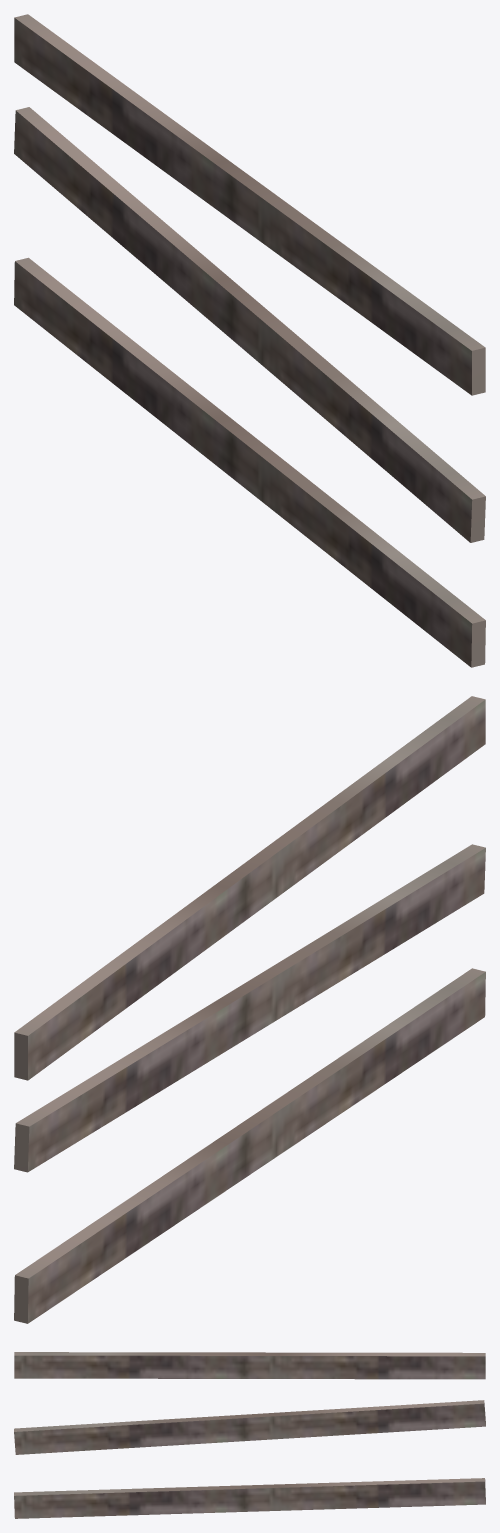
The model's file is board.glb.
3 views of the same model, one above another, from view 1: azimuth 30°, elevation 25°; view 2: azimuth 150°, elevation 25°; view 3: azimuth 270°, elevation 25° (orthographic). The views are drawn at different scales.
Parts seen in each view (by area): view 1: Cube_002; view 2: Cube_002; view 3: Cube_002.
Boxes of the visible parts, x1,y1,x2,y2 form: Cube_002: [14, 14, 485, 667]; Cube_002: [14, 696, 485, 1323]; Cube_002: [14, 1352, 485, 1518].
Size of the model in its own units: 0.0409 by 0.9006 by 2.36.
1 material, 1 textured.
